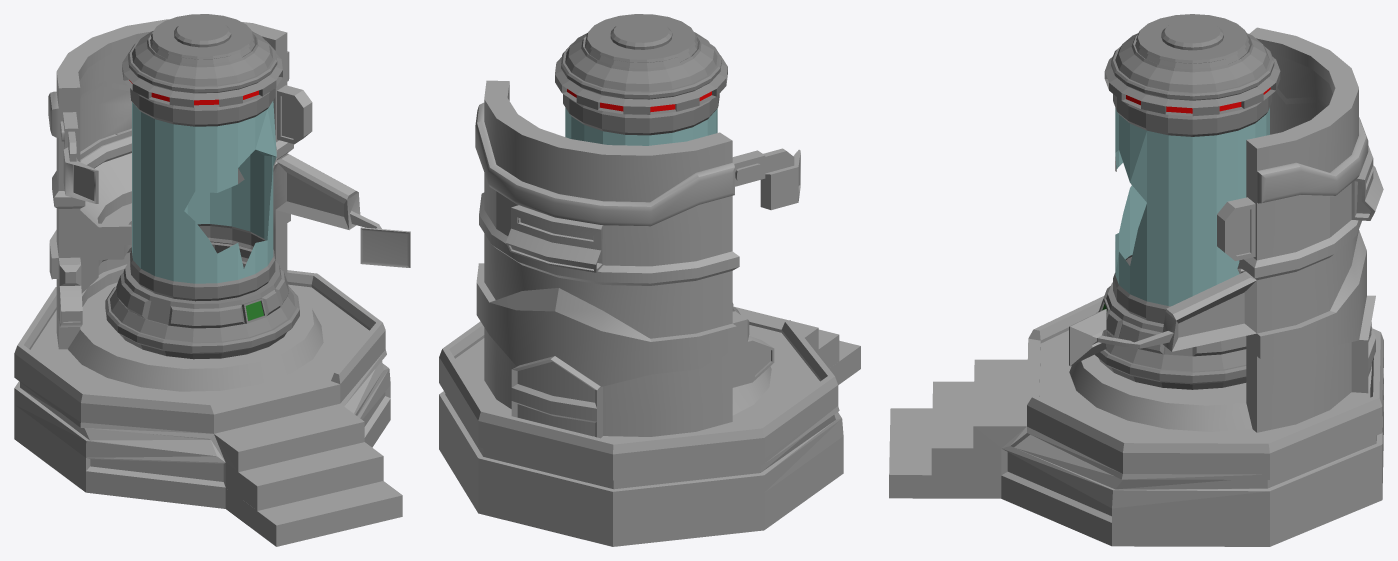
The model's file is maintube.fbx.
The picture shows the model from 3 angles, left to right: view 1: azimuth 30°, elevation 25°; view 2: azimuth 150°, elevation 25°; view 3: azimuth 270°, elevation 25°; orthographic projection. The views are drawn at different scales.
Parts seen in each view (by area): view 1: pCylinder3, pCylinder1, pCylinder12; view 2: pCylinder12, pCylinder3, pCylinder1; view 3: pCylinder3, pCylinder12, pCylinder1.
Part boxes in pixels (left/top/right/bottom): pCylinder3: left=14, top=270, right=402, bottom=546; pCylinder1: left=105, top=14, right=299, bottom=359; pCylinder12: left=48, top=19, right=410, bottom=391; pCylinder12: left=475, top=80, right=800, bottom=438; pCylinder3: left=439, top=306, right=860, bottom=546; pCylinder1: left=555, top=14, right=740, bottom=314; pCylinder3: left=889, top=296, right=1383, bottom=546; pCylinder12: left=1069, top=27, right=1383, bottom=432; pCylinder1: left=1094, top=14, right=1280, bottom=389.
Bounding box in the file's own units: 7.44 × 9.3 × 9.59.
